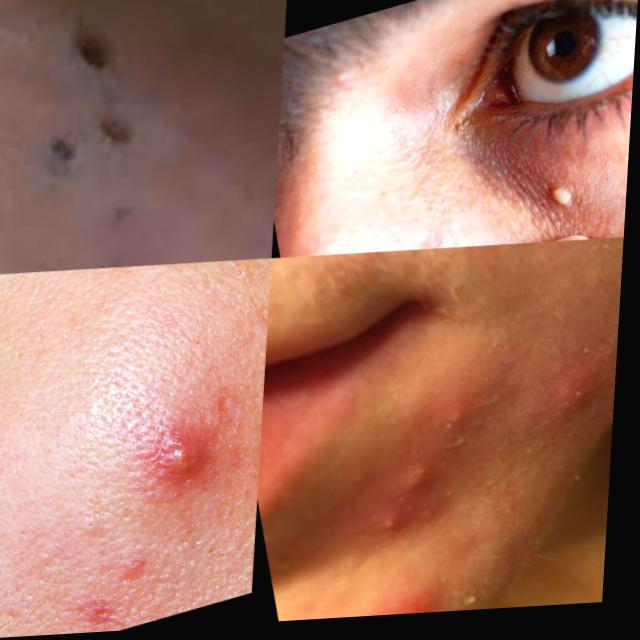7: (538, 178, 593, 238), (613, 149, 632, 180), (614, 218, 628, 246)
8: (441, 375, 520, 454), (381, 454, 452, 511), (375, 511, 429, 567)
blackheads: (148, 424, 230, 506), (201, 370, 265, 445), (79, 582, 138, 635)
dark spot: (14, 95, 157, 198), (45, 7, 145, 96)
pustules: (548, 356, 622, 429), (373, 569, 465, 621)
